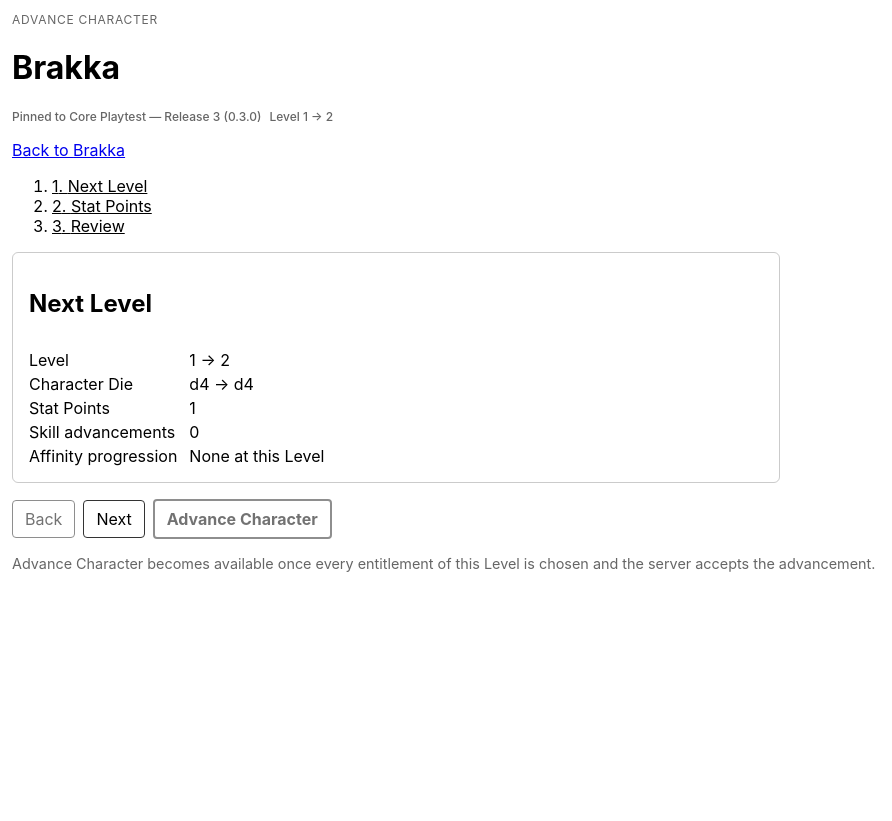
Test: M6-WO4 Advancement wizard (§69–§77) › server issues are shown per step; a stale write offers a reload; other errors show message and code
Expected: the element with test id "next-level-summary" is shown, [29,350,324,466]
Click the button "Next". click: (114, 519)
box: [83,500,145,538]
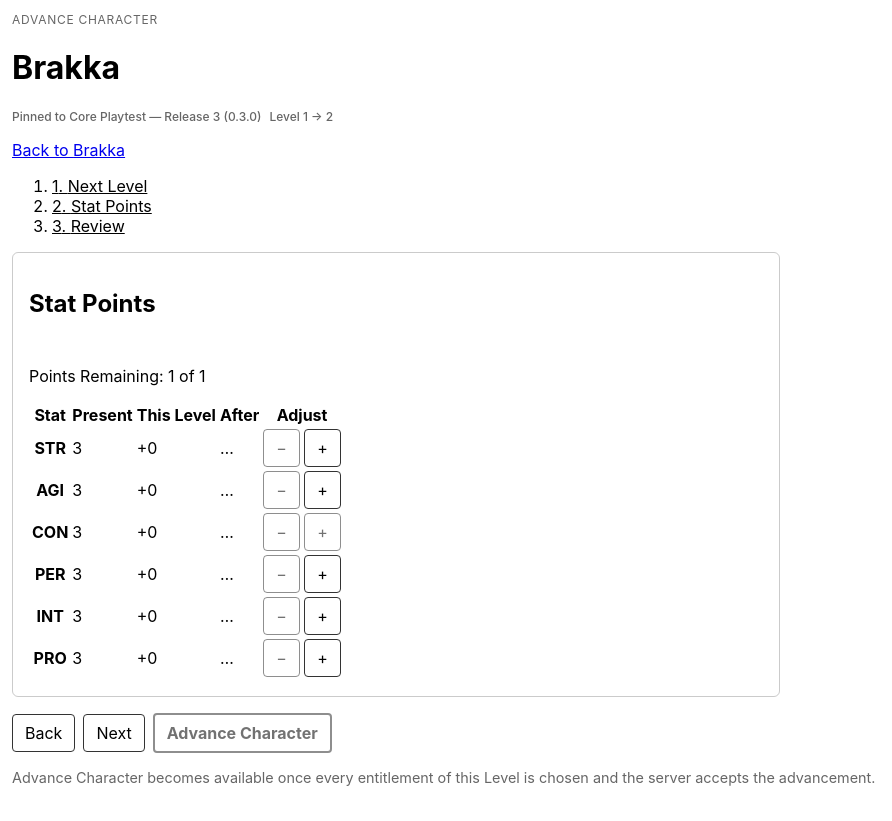
Click the button named "Add a point to STR". click: (323, 448)
box: [304,429,341,467]
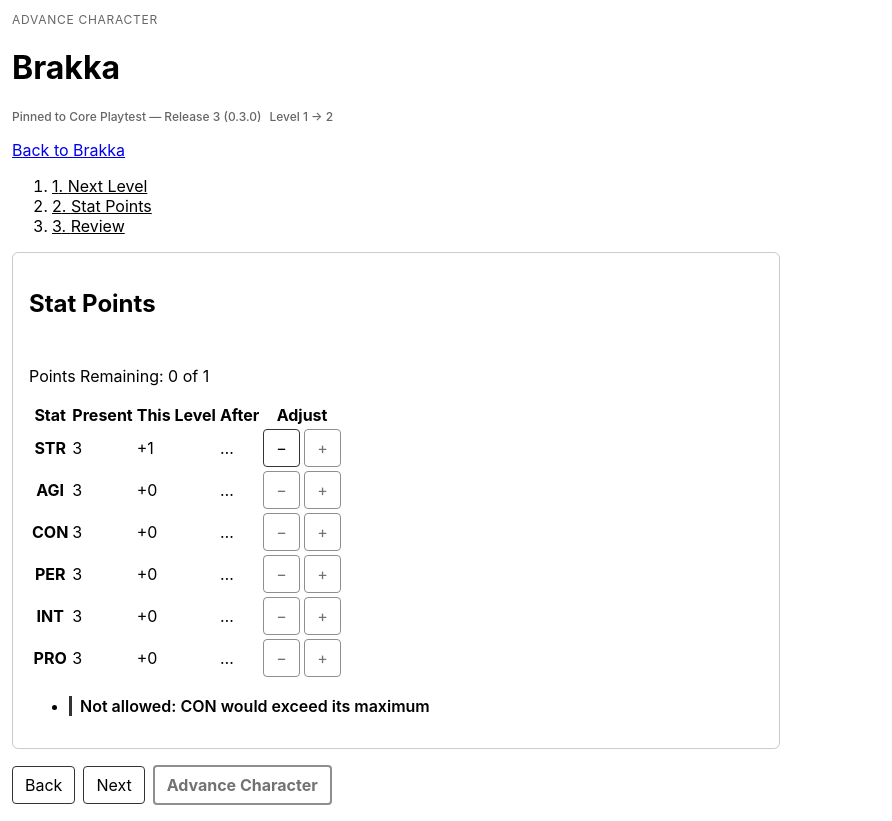
Result: the list named "Problems in this step" reads "Not allowed: CON would exceed its maximum" at [29,696,763,716]
Click the button named "Remove a point from STR". click: (282, 448)
box: [263,429,300,467]
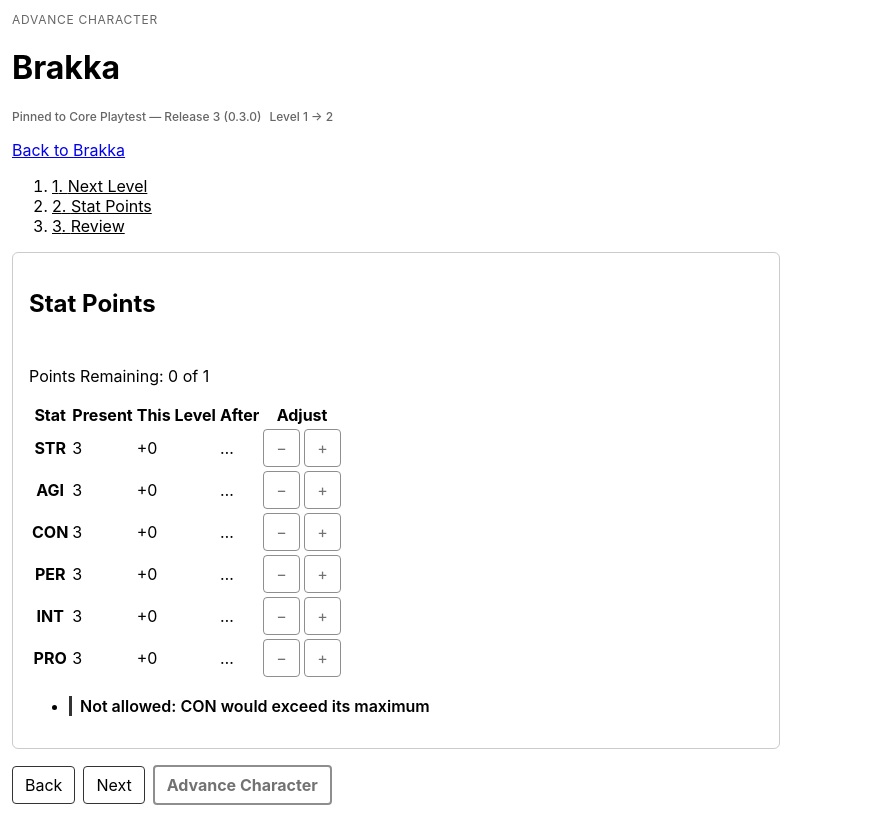
Click the button named "Add a point to PER". click: (323, 574)
box: [304,555,341,593]
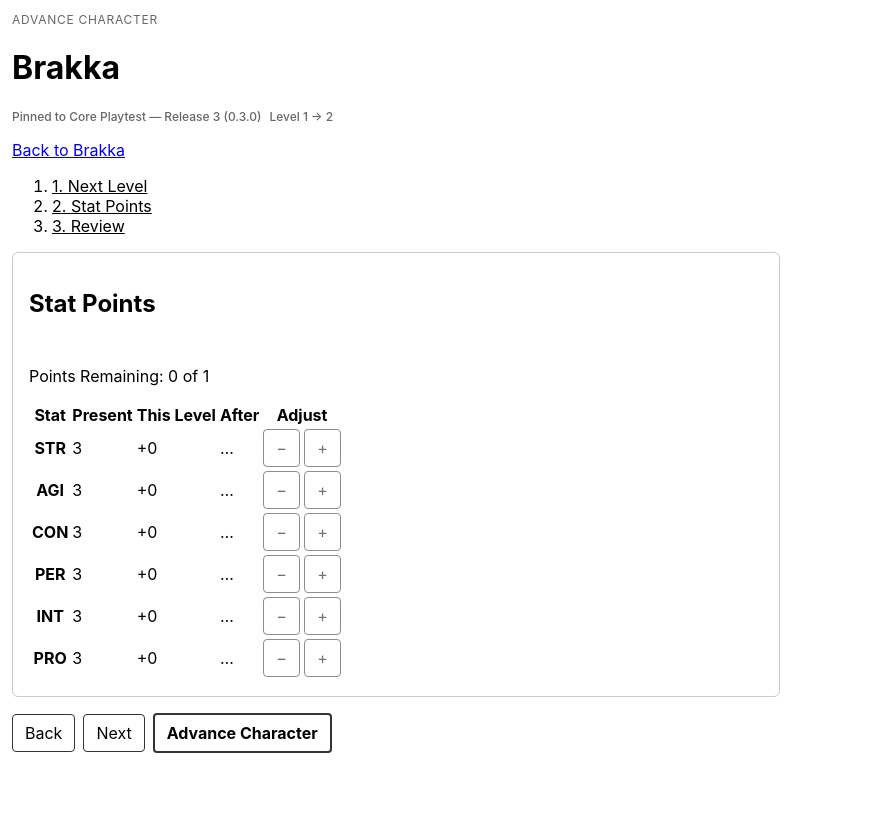
Click the button "Advance Character". click: (242, 733)
box: [153,713,332,753]
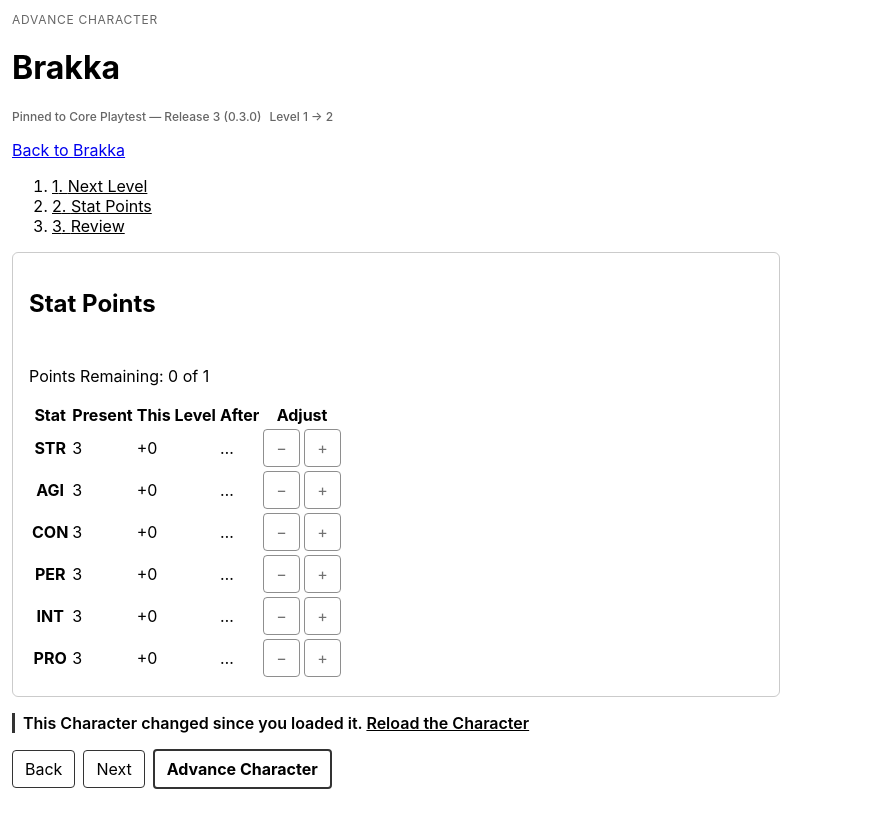
Result: the message with test id "advance-message" shows "This Character changed since you loaded it." at [23,713,362,733]
Result: the button "Reload the Character" is shown at [366,713,529,733]
Click the button "Advance Character". click: (242, 769)
box: [153,749,332,789]
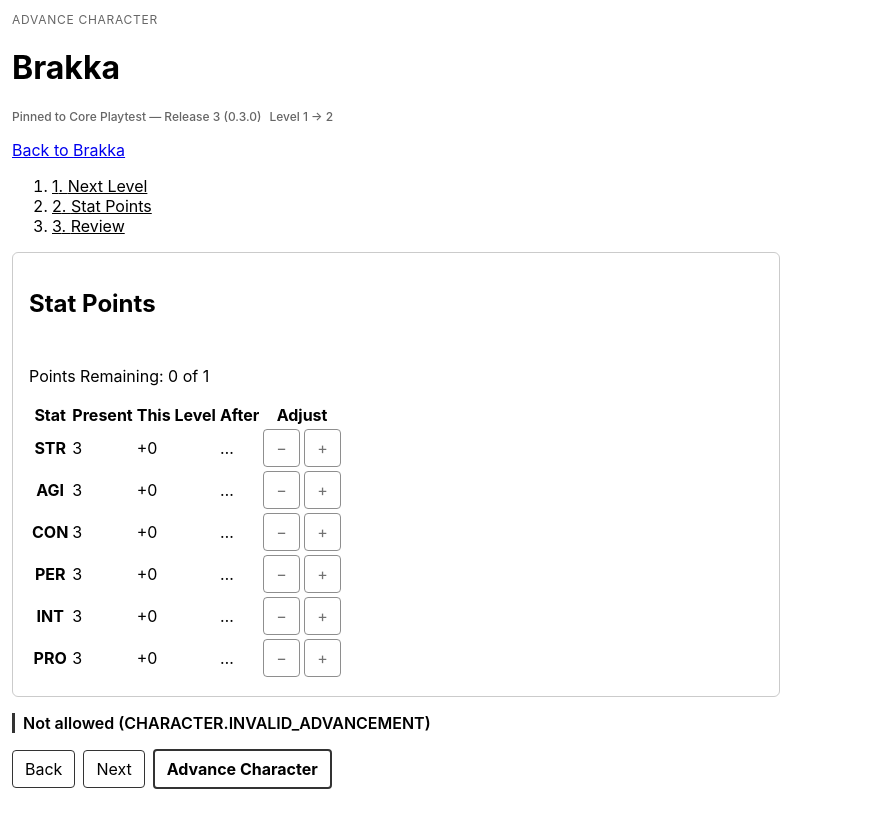
Result: the message with test id "advance-message" reads "Not allowed (CHARACTER.INVALID_ADVANCEMENT)" at [23,713,431,733]
